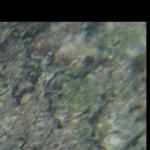dead: (1, 22, 145, 148)
